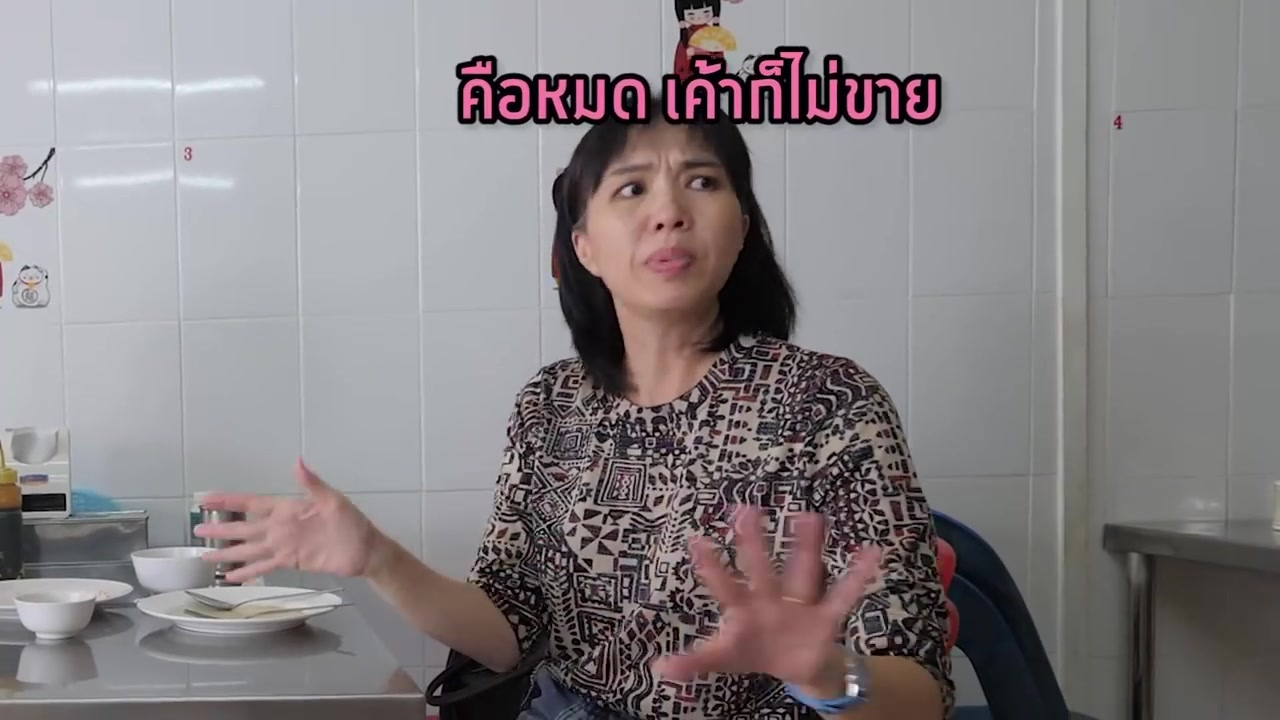text-label: (453, 41, 949, 132)
